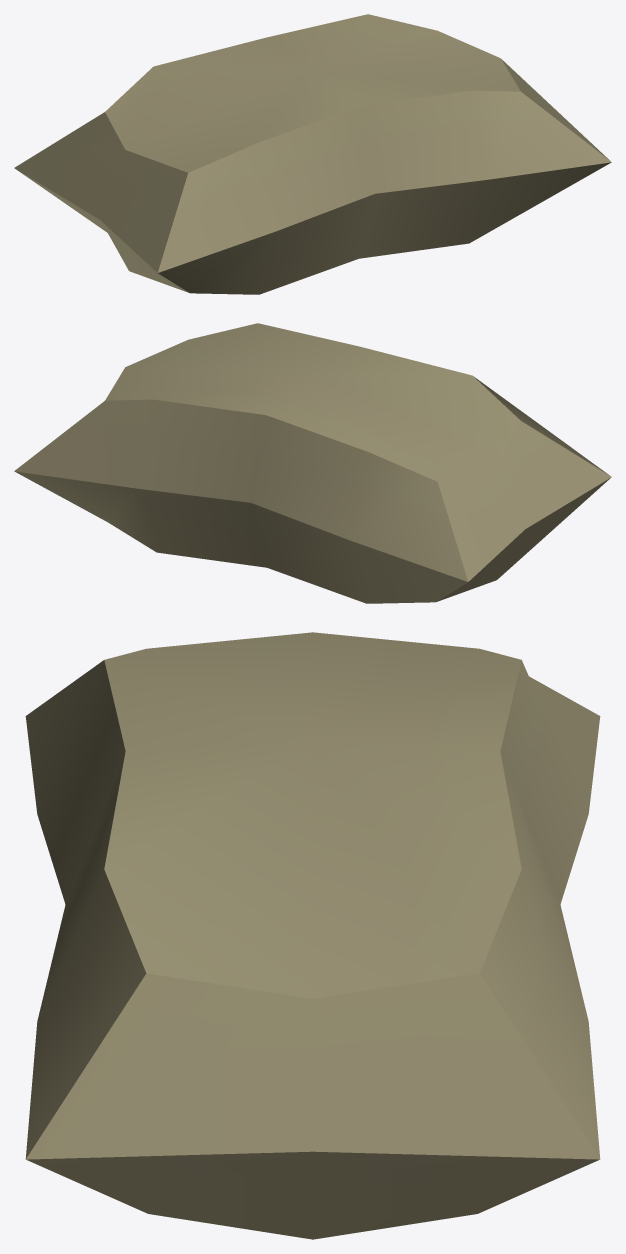
File: Sandbag.fbx
The picture shows the model from 3 angles, top to bottom: view 1: azimuth 30°, elevation 25°; view 2: azimuth 150°, elevation 25°; view 3: azimuth 270°, elevation 25°; orthographic projection. The views are drawn at different scales.
Parts seen in each view (by area): view 1: Box002; view 2: Box002; view 3: Box002.
Boxes of the visible parts, bbox=[...] form: Box002: bbox=[14, 14, 611, 294]; Box002: bbox=[14, 323, 611, 603]; Box002: bbox=[25, 632, 600, 1239].
Bounding box in the file's own units: 46.34 × 16.06 × 25.37.
